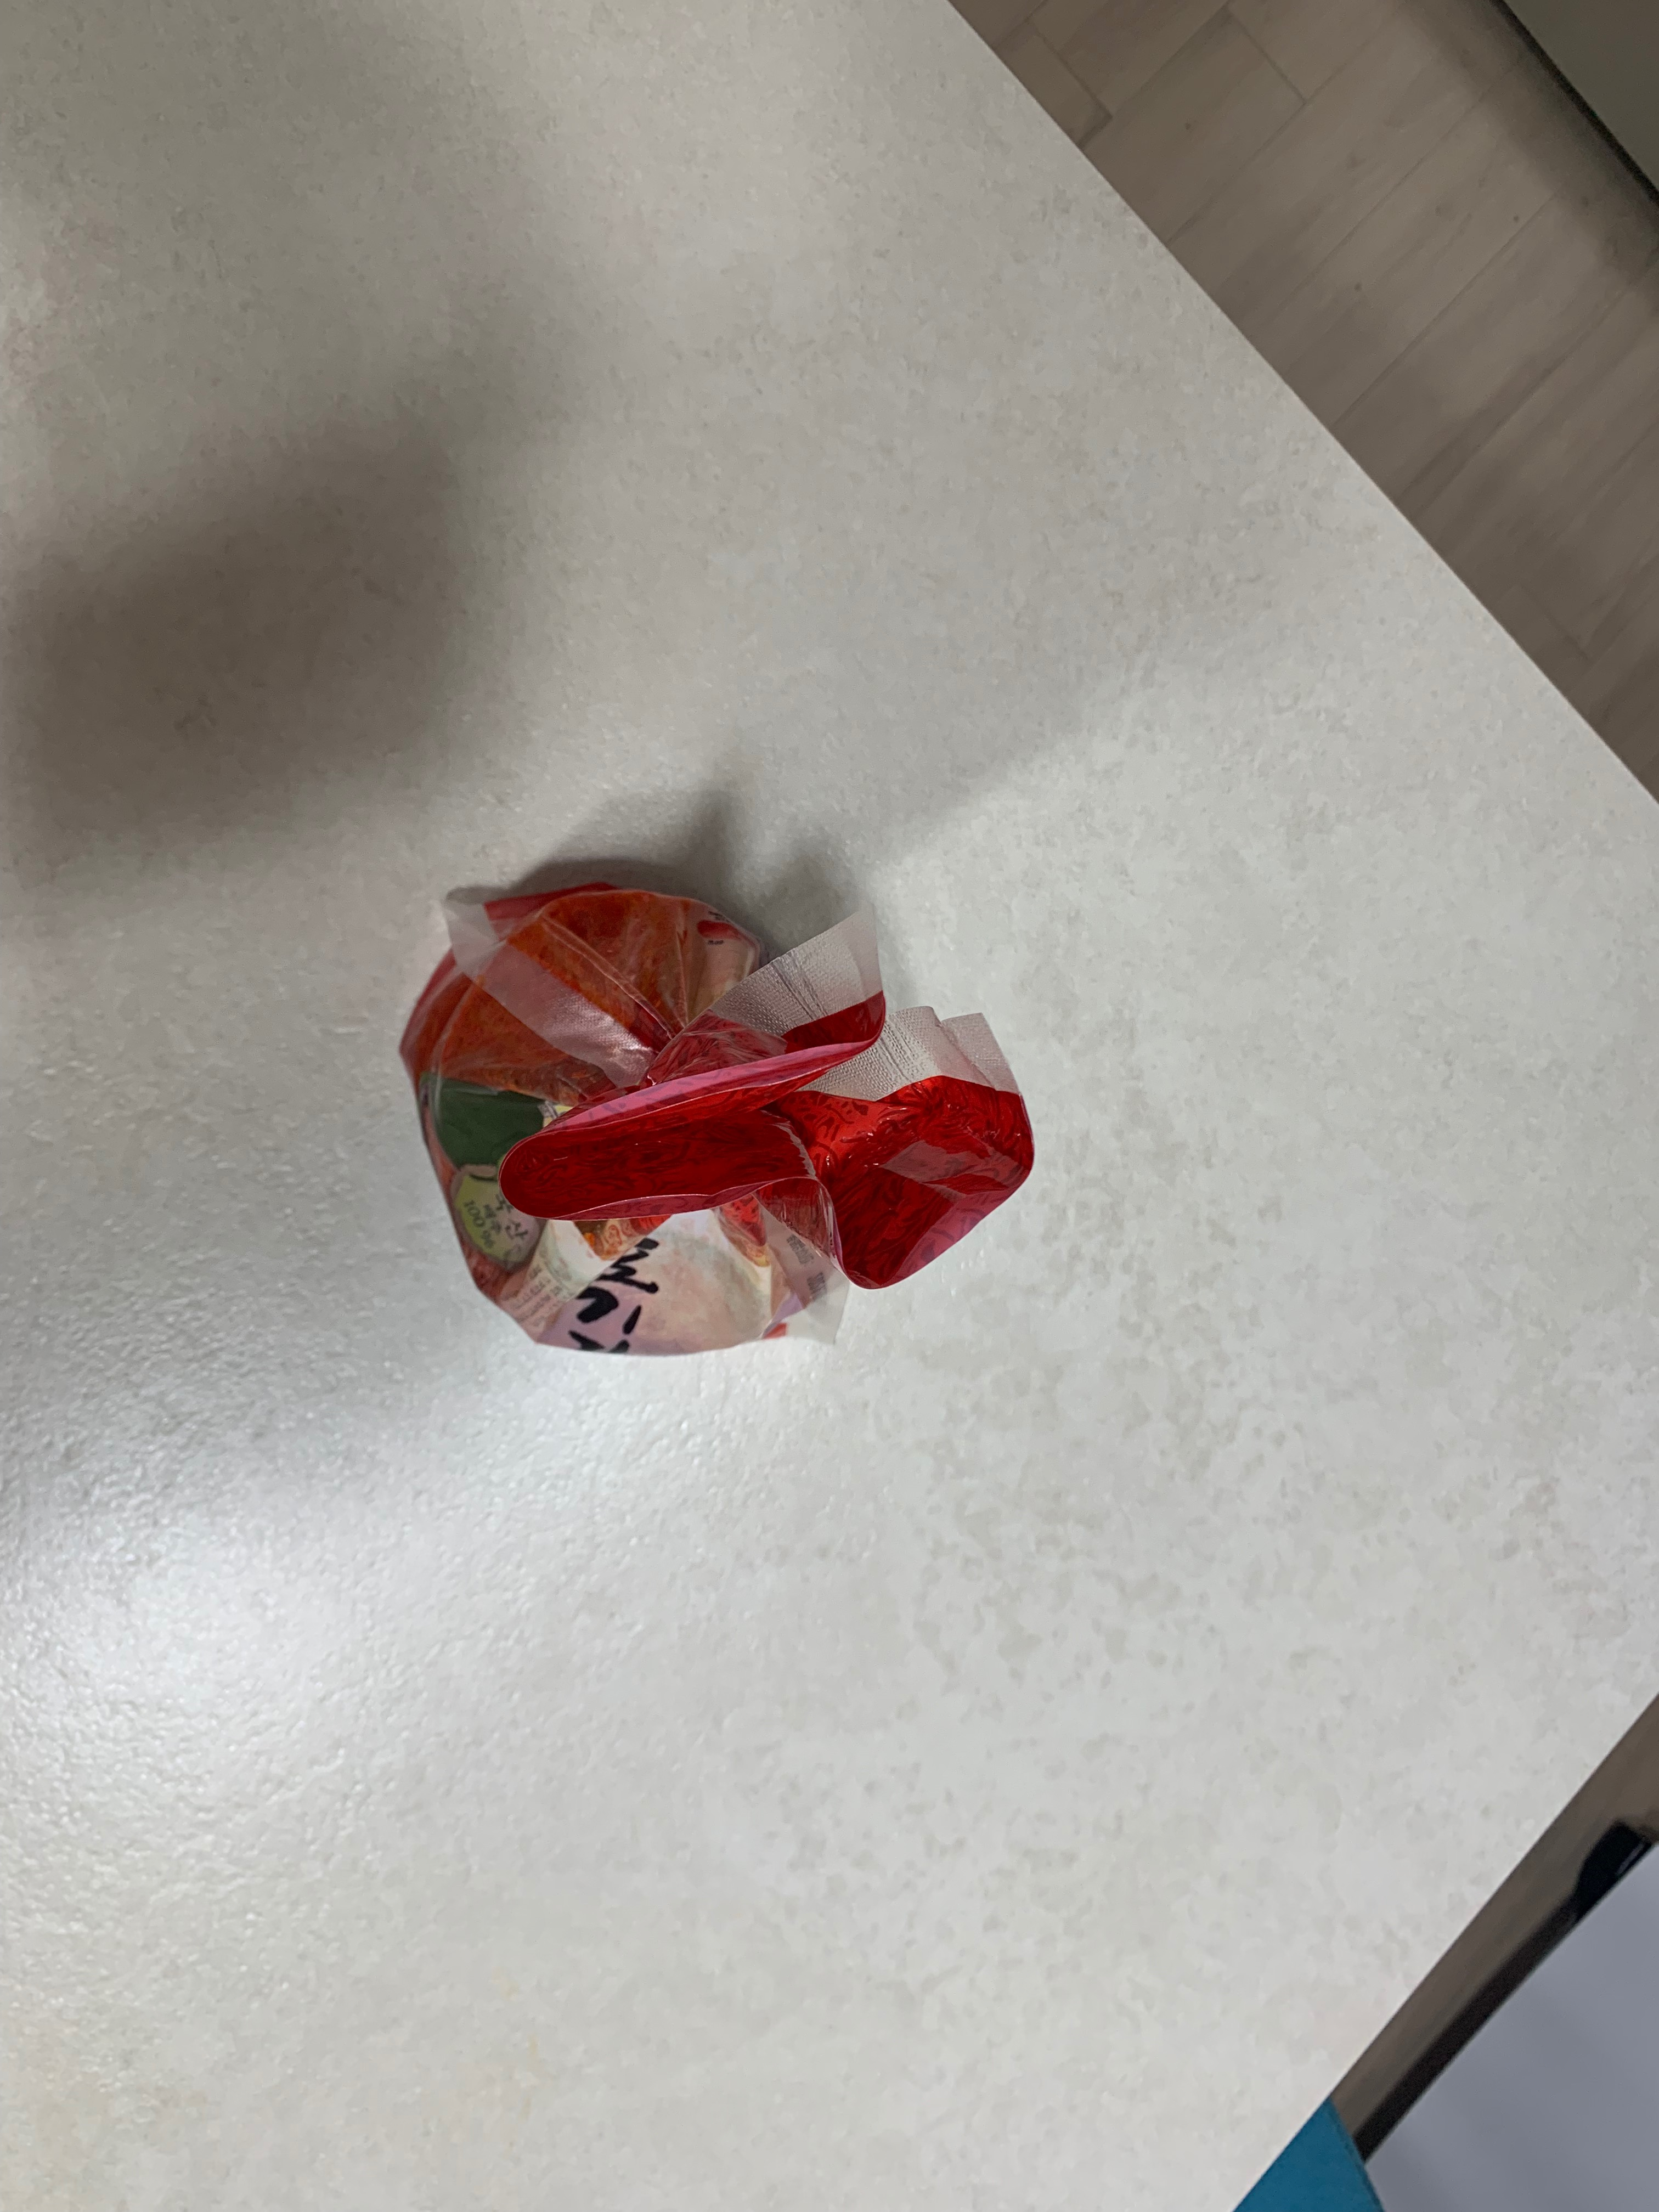kimchi: (404, 883, 1039, 1359)
